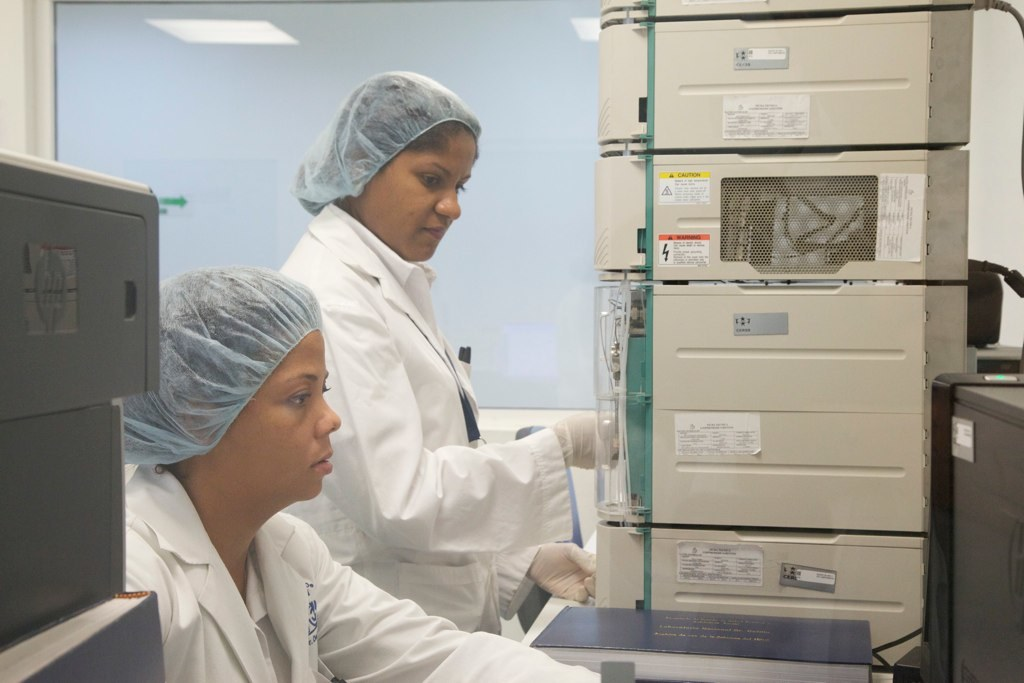Person: (120, 264, 600, 683), (278, 72, 616, 637)
